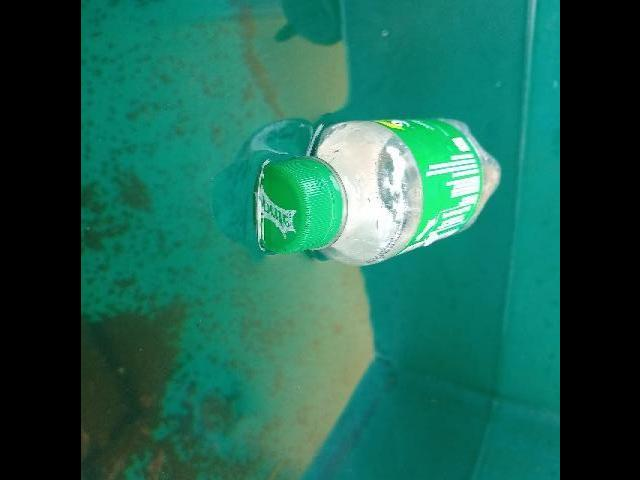Bottle: (252, 107, 507, 278)
